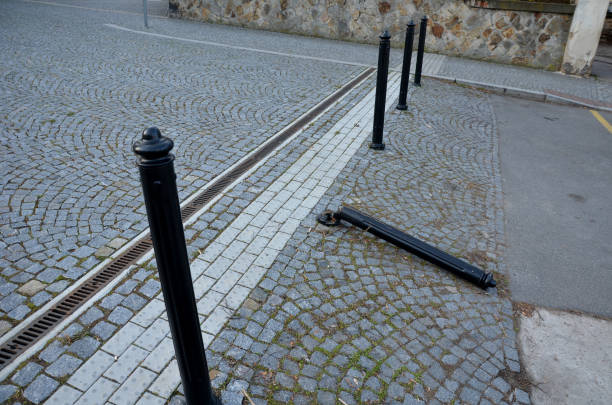bollard: (123, 123, 218, 404)
